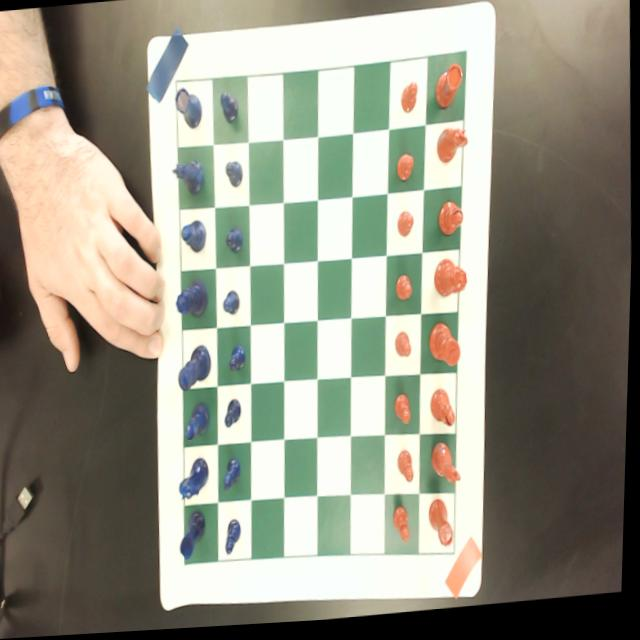B: (180, 221, 209, 258), (186, 405, 212, 443)
K: (179, 346, 214, 394)
N: (179, 460, 213, 504), (170, 160, 206, 201)
P: (219, 93, 241, 129), (228, 519, 246, 557), (225, 459, 245, 493), (225, 226, 245, 259), (229, 345, 249, 377), (225, 161, 245, 191), (225, 401, 245, 431), (224, 292, 242, 318)
Q: (177, 280, 211, 323)
R: (173, 86, 204, 136), (181, 512, 210, 562)
b: (431, 391, 459, 434), (439, 203, 466, 242)
k: (430, 325, 464, 375)
n: (431, 443, 468, 492), (437, 132, 469, 169)
p: (397, 81, 423, 123), (391, 508, 417, 548), (393, 391, 416, 433), (393, 208, 417, 246), (397, 452, 420, 490), (392, 334, 415, 364), (393, 154, 415, 184), (396, 275, 414, 309)
q: (435, 262, 470, 303)
r: (434, 67, 465, 116), (431, 503, 458, 555)
